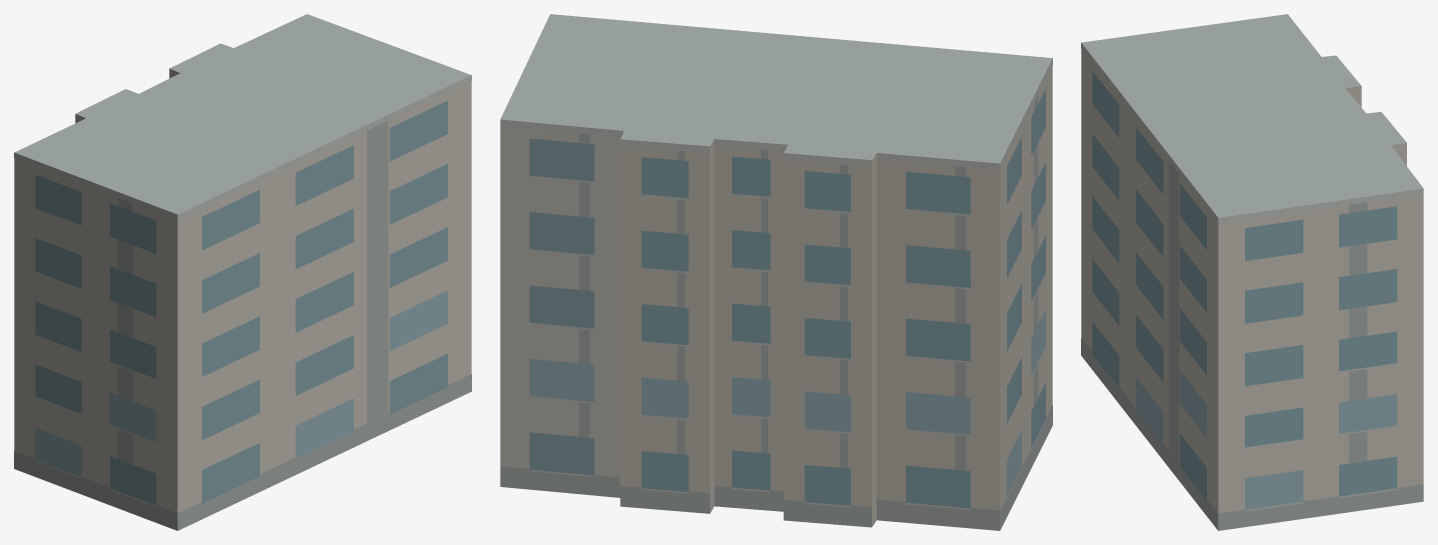
Rendered from survey-upis-32891273.glb.
3 renders of one model, left to right at view 1: azimuth 30°, elevation 25°; view 2: azimuth 150°, elevation 25°; view 3: azimuth 270°, elevation 25°, orthographic. The views are drawn at different scales.
Parts seen in each view (by area): view 1: survey-upis-32891273.tmp; view 2: survey-upis-32891273.tmp; view 3: survey-upis-32891273.tmp.
Part boxes in pixels (box(x1,y1,x2,y2)): survey-upis-32891273.tmp: box(14, 14, 471, 530); survey-upis-32891273.tmp: box(500, 14, 1052, 530); survey-upis-32891273.tmp: box(1081, 14, 1423, 530).
Size of the model in its own units: 18.18 by 13 by 12.91.
